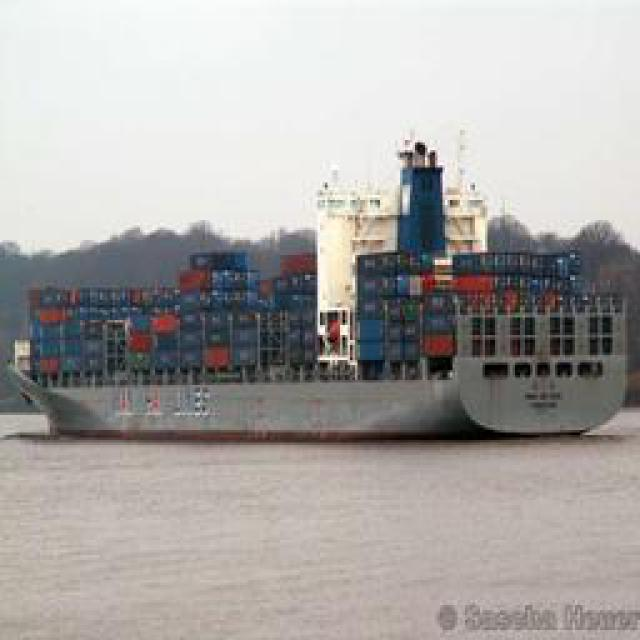Ship: (23, 129, 628, 439)
